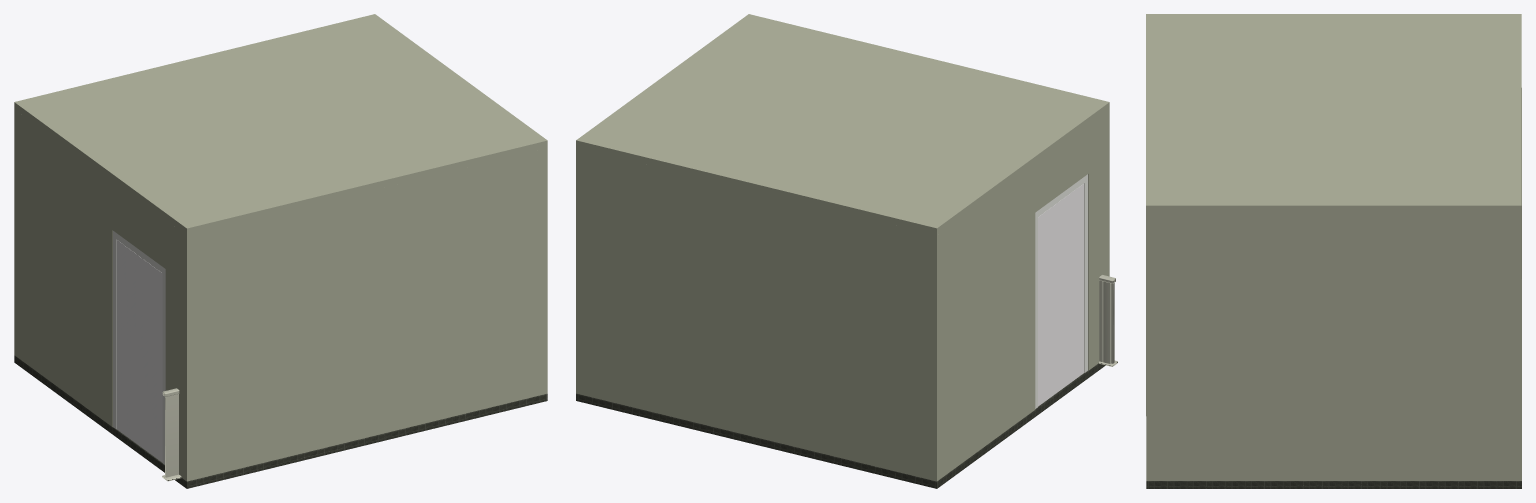
Rendered from FloorPlan427_physics.fbx.
The picture shows the model from 3 angles, left to right: view 1: azimuth 30°, elevation 25°; view 2: azimuth 150°, elevation 25°; view 3: azimuth 270°, elevation 25°; orthographic projection. The views are drawn at different scales.
Parts seen in each view (by area): view 1: FP427:Walls, FP427:Ceiling, FP427:polySurface178, FP427:Floor, FP427:polySurface180, FP427:FloorPlan426wall; view 2: FP427:Walls, FP427:Ceiling, FP427:polySurface178, FP427:Floor, FP427:polySurface180, FP427:FloorPlan426wall; view 3: FP427:Walls, FP427:Ceiling, FP427:Floor.
Part boxes in pixels (x1,y1,x2,y2): FP427:Walls: (14,110,547,481); FP427:Ceiling: (14,14,547,235); FP427:polySurface178: (116,240,162,462); FP427:Floor: (14,355,547,488); FP427:polySurface180: (113,231,165,464); FP427:FloorPlan426wall: (162,388,181,481); FP427:Walls: (576,110,1109,481); FP427:Ceiling: (576,14,1109,235); FP427:polySurface178: (1038,184,1083,406); FP427:Floor: (576,363,1105,488); FP427:polySurface180: (1035,174,1087,408); FP427:FloorPlan426wall: (1099,275,1117,366); FP427:Walls: (1146,88,1521,480); FP427:Ceiling: (1146,14,1521,213); FP427:Floor: (1146,481,1521,488).
Bounding box in the file's own units: 438 × 291 × 350.
